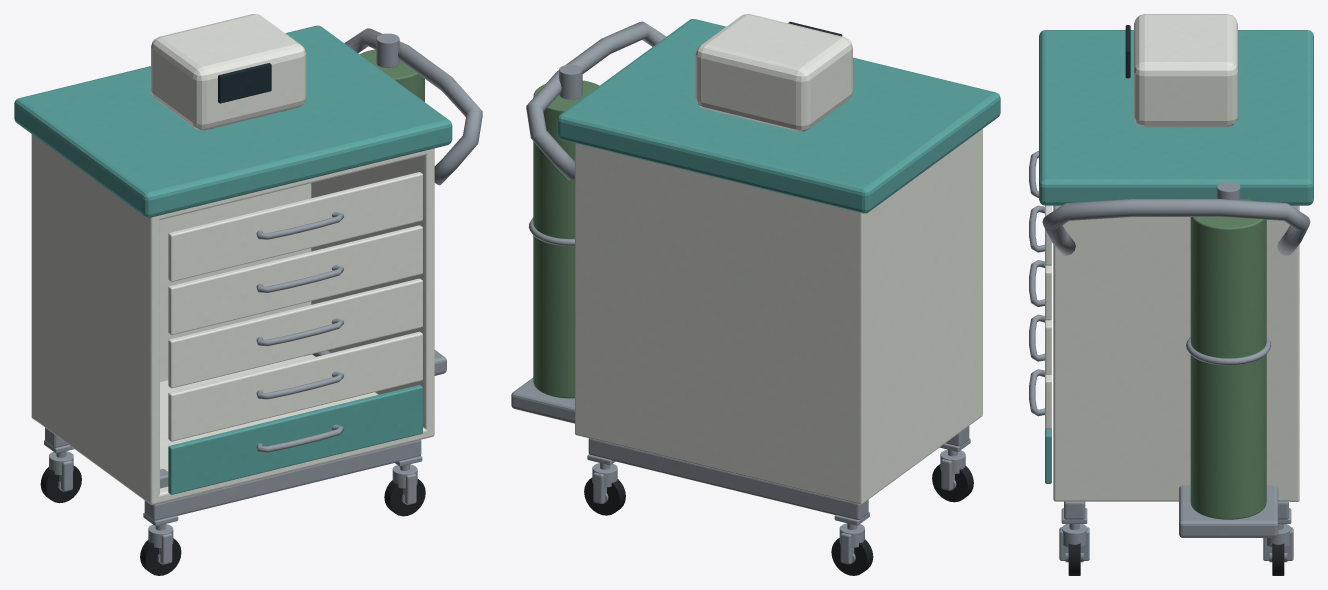
File: crash-cart.glb
The picture shows the model from 3 angles, left to right: view 1: azimuth 30°, elevation 25°; view 2: azimuth 150°, elevation 25°; view 3: azimuth 270°, elevation 25°; orthographic projection. The views are drawn at different scales.
Parts seen in each view (by area): view 1: Cart work surface, Cabinet side, Defibrillator, Drawer face.004, Drawer face.001, Drawer face, Drawer face.002, Drawer face.003, Cabinet side.001, Cabinet back, Caster base crossbar, Cabinet horizontal (+13 smaller); view 2: Cabinet back, Cart work surface, Cabinet side, Defibrillator, Oxygen cylinder, Caster base crossbar.001, Trolley push handle, Oxygen cylinder base cradle, Cast polyurethane wheel, Cast polyurethane wheel.003, Cast polyurethane wheel.001, Cylinder valve (+1 smaller); view 3: Cabinet side.001, Cart work surface, Oxygen cylinder, Defibrillator, Trolley push handle, Oxygen cylinder base cradle, Cabinet back, Oxygen cylinder retaining cuff, Caster swivel.002, Cylinder valve, Furniture pull.003, Cast polyurethane wheel.002 (+10 smaller).
Part boxes in pixels (<box>): Cart work surface: <box>14,25,452,217</box>; Cabinet side: <box>32,134,159,504</box>; Defibrillator: <box>151,14,306,130</box>; Drawer face.004: <box>168,172,422,281</box>; Drawer face.001: <box>168,331,422,441</box>; Drawer face: <box>168,385,422,494</box>; Drawer face.002: <box>168,278,422,388</box>; Drawer face.003: <box>168,225,422,334</box>; Cabinet side.001: <box>311,148,434,437</box>; Cabinet back: <box>31,134,311,421</box>; Caster base crossbar: <box>144,439,421,520</box>; Cabinet horizontal: <box>33,354,434,504</box>; Cabinet back: <box>575,143,866,504</box>; Cart work surface: <box>557,19,1000,213</box>; Cabinet side: <box>854,129,982,502</box>; Defibrillator: <box>695,14,852,131</box>; Oxygen cylinder: <box>533,80,599,398</box>; Caster base crossbar.001: <box>588,438,868,519</box>; Trolley push handle: <box>526,21,666,180</box>; Oxygen cylinder base cradle: <box>511,377,574,423</box>; Cast polyurethane wheel: <box>932,464,973,502</box>; Cast polyurethane wheel.003: <box>584,477,625,515</box>; Cast polyurethane wheel.001: <box>831,538,873,575</box>; Cylinder valve: <box>559,64,582,99</box>; Cabinet side.001: <box>1053,206,1297,501</box>; Cart work surface: <box>1039,30,1313,205</box>; Oxygen cylinder: <box>1190,199,1266,519</box>; Defibrillator: <box>1134,14,1237,127</box>; Trolley push handle: <box>1042,199,1310,255</box>; Oxygen cylinder base cradle: <box>1179,485,1278,537</box>; Cabinet back: <box>1289,205,1299,501</box>; Oxygen cylinder retaining cuff: <box>1186,337,1271,365</box>; Caster swivel.002: <box>1061,524,1087,547</box>; Cylinder valve: <box>1216,181,1240,200</box>; Furniture pull.003: <box>1029,205,1044,252</box>; Cast polyurethane wheel.002: <box>1068,543,1080,575</box>.
Size of the model in its own units: 0.925 by 1.1 by 0.6011.
7 materials, 7 textured.
